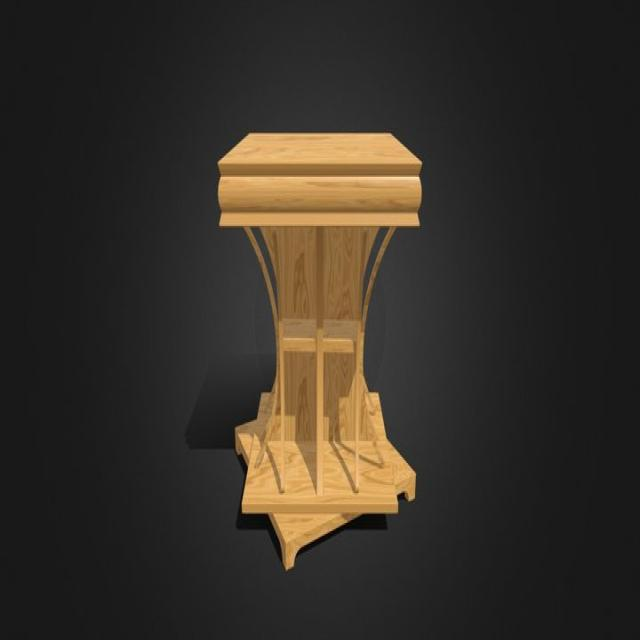table: (216, 129, 426, 576)
